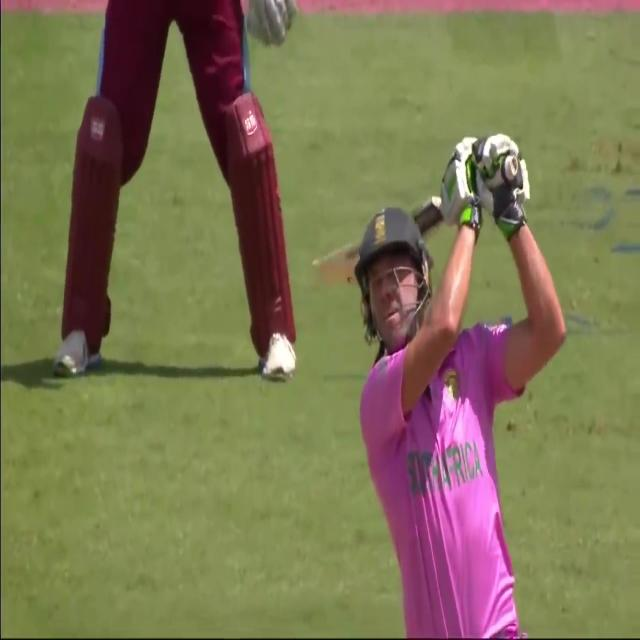Ball: (351, 79, 575, 637)
Fielder: (182, 5, 300, 387)
